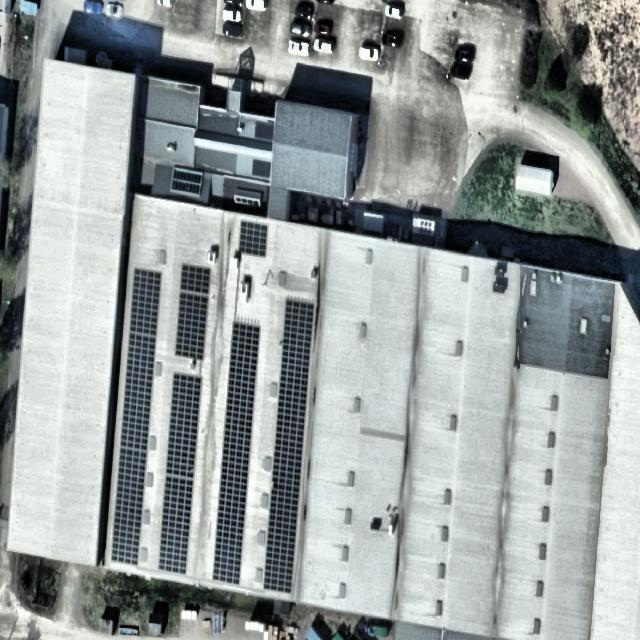roof_pv: (167, 373, 203, 463), (173, 290, 210, 360), (275, 363, 311, 434), (272, 427, 305, 503), (109, 492, 142, 565), (123, 333, 156, 405), (224, 376, 256, 446), (283, 297, 313, 370), (130, 266, 162, 334), (161, 462, 196, 524), (268, 495, 300, 560), (157, 517, 192, 574), (230, 320, 262, 380), (216, 486, 248, 546), (212, 538, 246, 589), (120, 400, 152, 454), (220, 439, 252, 491), (115, 452, 147, 498), (262, 553, 296, 594), (239, 221, 270, 257), (180, 264, 210, 294)
